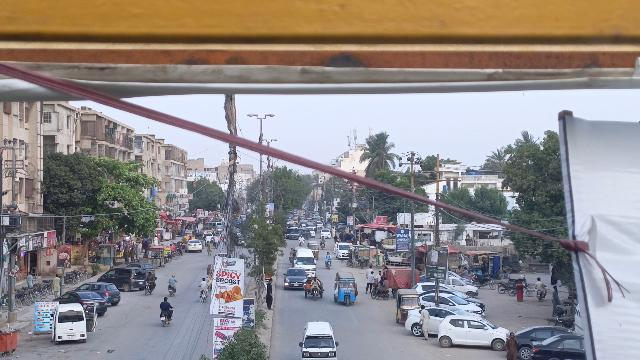Bike: (370, 285, 391, 301), (159, 311, 174, 327), (533, 288, 547, 303), (197, 289, 210, 303), (143, 280, 154, 296), (166, 284, 177, 297), (324, 259, 333, 269)
Car: (438, 314, 507, 349), (419, 292, 484, 318), (98, 265, 147, 291), (54, 290, 106, 313), (76, 279, 121, 305), (283, 266, 308, 290)
Cart: (303, 275, 327, 302)
Person: (504, 329, 521, 360), (419, 303, 431, 341), (263, 276, 275, 311), (548, 285, 562, 310), (52, 272, 63, 298), (366, 270, 375, 294), (158, 297, 173, 311), (197, 277, 209, 290), (534, 276, 545, 290), (167, 274, 178, 286), (383, 276, 390, 291), (144, 272, 154, 281), (376, 276, 384, 286), (324, 251, 332, 260)
Rickshaw: (333, 269, 358, 308), (394, 287, 418, 326)
Van: (52, 302, 99, 343), (299, 319, 340, 360), (294, 247, 317, 277)
